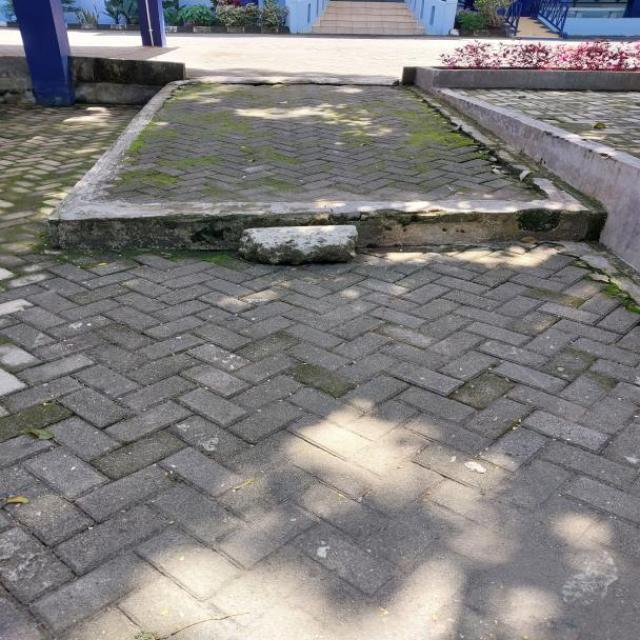stones ahead at: (234, 225, 372, 270)
